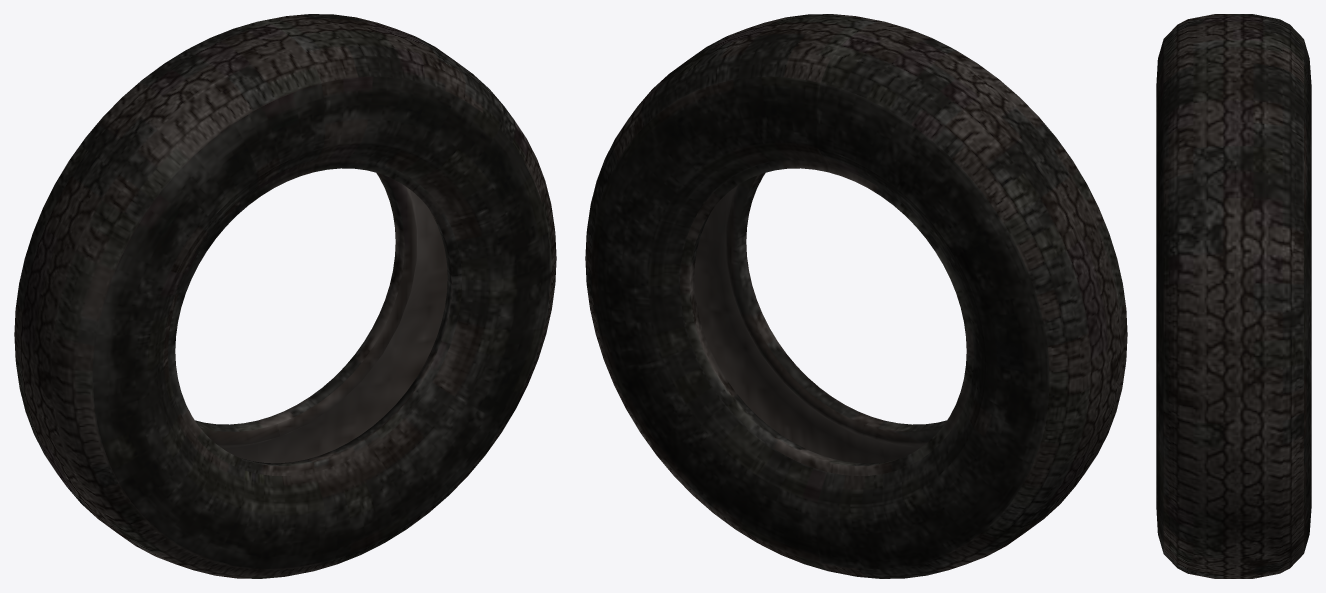
3 renders of one model, left to right at view 1: azimuth 30°, elevation 25°; view 2: azimuth 150°, elevation 25°; view 3: azimuth 270°, elevation 25°, orthographic. The views are drawn at different scales.
Parts seen in each view (by area): view 1: old_tyre; view 2: old_tyre; view 3: old_tyre.
Boxes of the visible parts, left/top/right/bottom form: old_tyre: left=14, top=14, right=556, bottom=578; old_tyre: left=585, top=14, right=1127, bottom=578; old_tyre: left=1156, top=14, right=1311, bottom=578.
Size of the model in its own units: 0.6 by 0.6 by 0.165.
1 material, 1 textured.
